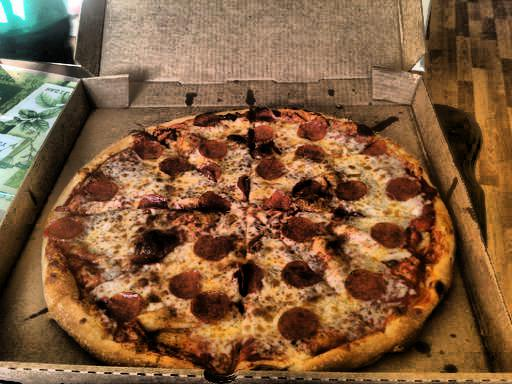pizza: (15, 86, 456, 370)
